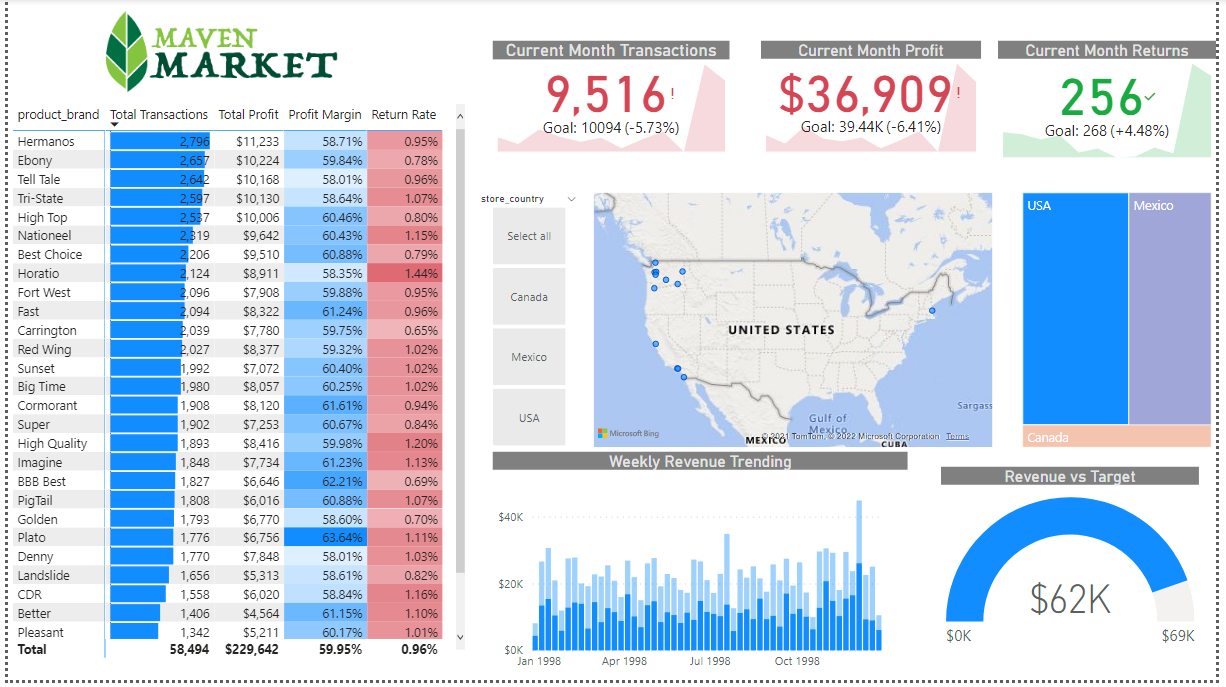

This screenshot's page, from the dashboard's own definition file:
{"tool":"powerbi","page":{"name":"Page 1","canvas":[1280,720],"ordinal":0},"visuals":[{"type":"pivotTable","fields":{"Values":["Transaction_Data.Total Transactions","Transaction_Data.Total Profit","Transaction_Data.Profit Margin","Return_Data.Return Rate"],"Rows":["Products.product_brand"]},"box":[0,104.3,488.7,597.1],"z":0},{"type":"kpi","title":"Current Month Transactions","fields":{"TrendLine":["Calendar.Start of Month"],"Goal":["Transaction_Data.Last Month Transactions"],"Indicator":["Transaction_Data.Total Transactions"]},"box":[513.2,42.9,251.5,122.7],"z":1000},{"type":"kpi","title":"Current Month Profit","fields":{"TrendLine":["Calendar.Start of Month"],"Goal":["Transaction_Data.Last Month Profit"],"Indicator":["Transaction_Data.Total Profit"]},"box":[797.4,42.9,233.1,122.7],"z":2000},{"type":"kpi","title":"Current Month Returns","fields":{"TrendLine":["Calendar.Start of Month"],"Indicator":["Return_Data.Total Returns"],"Goal":["Return_Data.Last Month Returns"]},"box":[1048.9,42.9,231.1,128.8],"z":3000},{"type":"image","box":[85.9,0,278.1,108.4],"z":4000},{"type":"map","fields":{"Category":["Stores.store_city"]},"box":[615.5,198.3,433.5,280.1],"z":5000},{"type":"slicer","fields":{"Values":["Stores.store_country"]},"box":[488.7,198.3,126.8,280.1],"z":6000},{"type":"treemap","fields":{"Group":["Stores.store_country","Stores.store_state","Stores.store_city"],"Values":["Transaction_Data.Total Transactions"]},"box":[1069.4,198.3,210.6,280.1],"z":7000},{"type":"lineStackedColumnComboChart","title":"Weekly Revenue Trending","fields":{"Y":["Transaction_Data.Total Revenue"],"Category":["Calendar.Start of Week"]},"box":[513.4,478.4,440.3,241.6],"z":8000},{"type":"gauge","title":"Revenue vs Target","fields":{"Y":["Transaction_Data.Total Revenue"],"MaxValue":["Transaction_Data.Revenue Target"]},"box":[988.6,494.3,273.4,208.2],"z":8001}]}

Visuals, with their boxes in screenshot pixels (x1, y1, x2, y2), scaled from the page's 1280x720 canvas onto the 1226x687 screenshot:
pivotTable - Transaction_Data.Total Transactions x Transaction_Data.Total Profit: Rect(0, 100, 468, 669)
"Current Month Transactions" kpi: Rect(492, 41, 732, 158)
"Current Month Profit" kpi: Rect(764, 41, 987, 158)
"Current Month Returns" kpi: Rect(1005, 41, 1225, 164)
image: Rect(82, 0, 349, 103)
map - Stores.store_city: Rect(590, 189, 1005, 456)
slicer - Stores.store_country: Rect(468, 189, 590, 456)
treemap - Stores.store_country x Stores.store_state: Rect(1024, 189, 1225, 456)
"Weekly Revenue Trending" lineStackedColumnComboChart: Rect(492, 456, 913, 686)
"Revenue vs Target" gauge: Rect(947, 472, 1209, 670)
